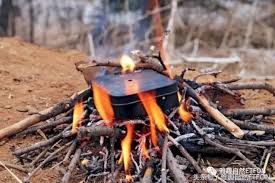wood_together: (59, 107, 240, 183)
